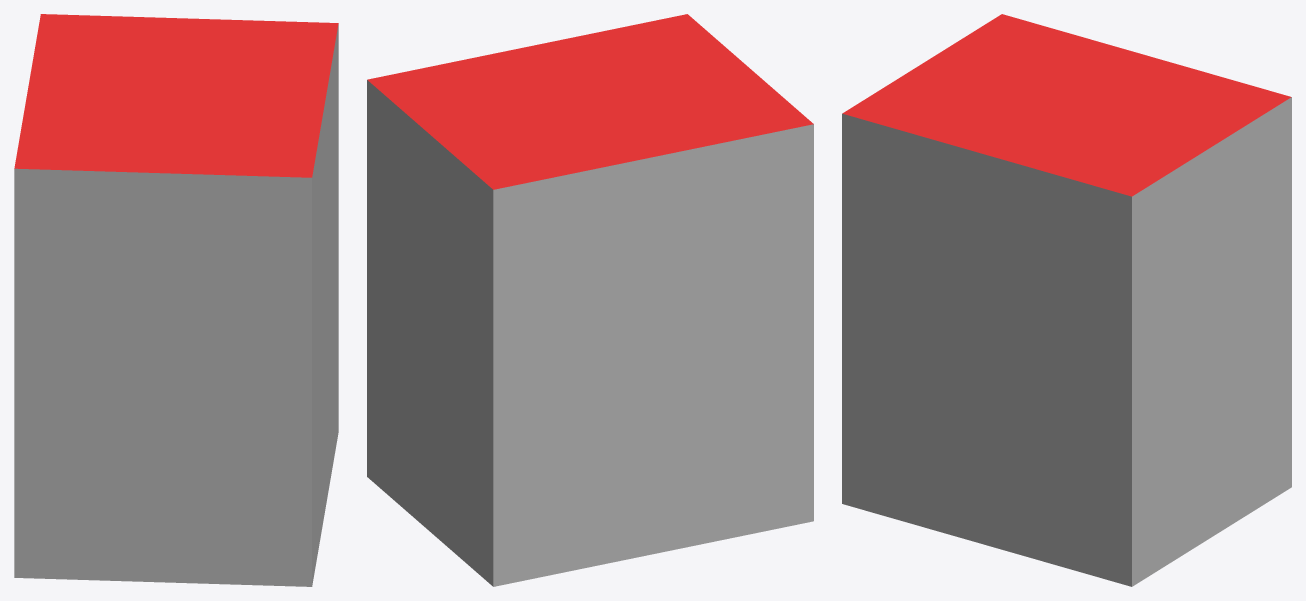
Rendered from ID_d12ef052-3ab7-4678-bed4-9a9a9d126883.dae.
3 renders of one model, left to right at view 1: azimuth 30°, elevation 25°; view 2: azimuth 150°, elevation 25°; view 3: azimuth 270°, elevation 25°, orthographic. The views are drawn at different scales.
Size of the model in its own units: 16.05 by 16.69 by 15.99.
